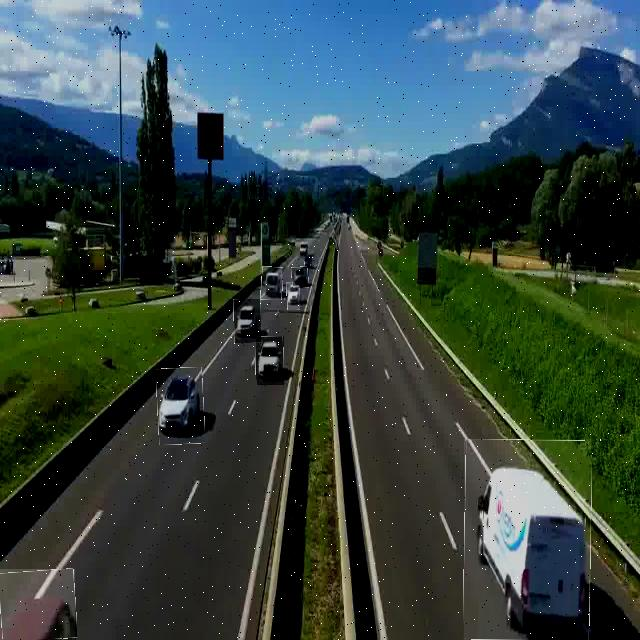Car: (0, 569, 75, 640), (157, 368, 205, 445), (256, 336, 284, 385), (234, 299, 261, 343), (287, 282, 300, 310), (292, 267, 309, 288)
Truck: (464, 439, 591, 640), (260, 267, 282, 300)
